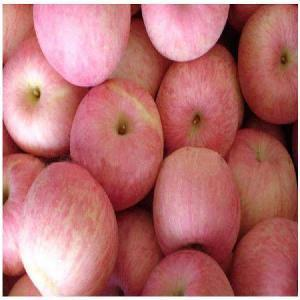apple: (19, 161, 119, 298), (67, 79, 163, 208), (152, 146, 240, 270), (1, 31, 86, 156), (157, 46, 238, 157), (32, 3, 131, 86), (239, 6, 300, 127), (227, 128, 298, 229), (139, 2, 228, 63), (230, 217, 297, 297), (101, 17, 167, 98), (3, 154, 46, 277), (113, 204, 160, 294), (140, 249, 233, 293)
